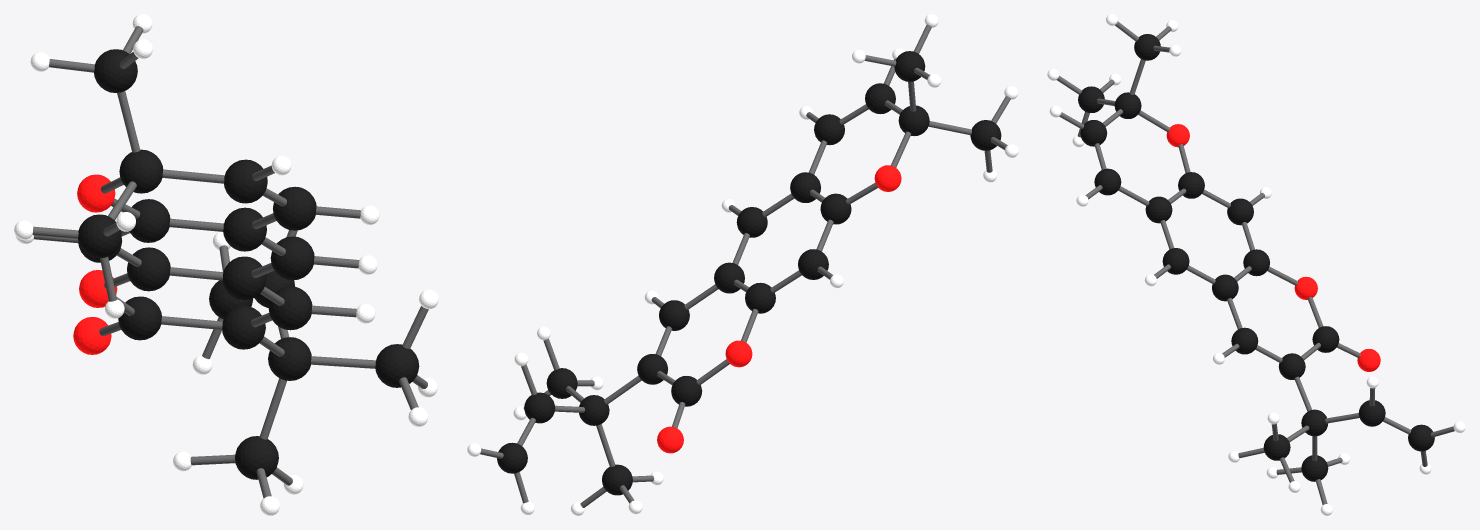
The model's file is molecule.glb.
3 views of the same model, side by side, from view 1: azimuth 30°, elevation 25°; view 2: azimuth 150°, elevation 25°; view 3: azimuth 270°, elevation 25° (orthographic). The views are drawn at different scales.
Visible parts, largest first — view 1: geometry_17, geometry_3, geometry_4, geometry_21, geometry_8, geometry_12, geometry_5, geometry_7, geometry_20, geometry_9, geometry_6, geometry_2 (+16 smaller); view 2: geometry_1, geometry_0, geometry_10, geometry_21, geometry_8, geometry_6, geometry_12, geometry_14, geometry_2, geometry_7, geometry_17, geometry_4 (+7 smaller); view 3: geometry_5, geometry_9, geometry_7, geometry_11, geometry_20, geometry_0, geometry_6, geometry_8, geometry_10, geometry_14, geometry_21, geometry_12 (+7 smaller).
Part boxes in pixels (bbox=[...]): geometry_17: bbox=[119, 149, 163, 193]; geometry_3: bbox=[375, 344, 419, 387]; geometry_4: bbox=[235, 436, 278, 479]; geometry_21: bbox=[273, 186, 316, 230]; geometry_8: bbox=[270, 236, 314, 280]; geometry_12: bbox=[127, 247, 170, 291]; geometry_5: bbox=[222, 305, 265, 349]; geometry_7: bbox=[222, 256, 266, 300]; geometry_20: bbox=[224, 159, 267, 203]; geometry_9: bbox=[223, 207, 266, 251]; geometry_6: bbox=[268, 286, 312, 330]; geometry_2: bbox=[268, 337, 311, 380]; geometry_1: bbox=[524, 392, 555, 423]; geometry_0: bbox=[497, 442, 527, 473]; geometry_10: bbox=[820, 193, 851, 224]; geometry_21: bbox=[814, 114, 844, 145]; geometry_8: bbox=[736, 207, 767, 237]; geometry_6: bbox=[659, 300, 689, 330]; geometry_12: bbox=[745, 282, 775, 313]; geometry_14: bbox=[671, 376, 702, 406]; geometry_2: bbox=[579, 395, 609, 425]; geometry_7: bbox=[714, 262, 744, 293]; geometry_17: bbox=[898, 105, 929, 136]; geometry_4: bbox=[602, 464, 632, 495]; geometry_5: bbox=[1278, 353, 1305, 379]; geometry_9: bbox=[1145, 196, 1172, 223]; geometry_7: bbox=[1212, 274, 1238, 301]; geometry_11: bbox=[1227, 198, 1253, 225]; geometry_20: bbox=[1080, 120, 1107, 146]; geometry_0: bbox=[1408, 424, 1434, 451]; geometry_6: bbox=[1231, 327, 1258, 354]; geometry_8: bbox=[1162, 248, 1189, 274]; geometry_10: bbox=[1178, 172, 1204, 198]; geometry_14: bbox=[1312, 326, 1339, 352]; geometry_21: bbox=[1094, 168, 1121, 195]; geometry_12: bbox=[1243, 249, 1269, 276].
Size of the model in its own units: 0.2307 by 0.257 by 0.2414.
